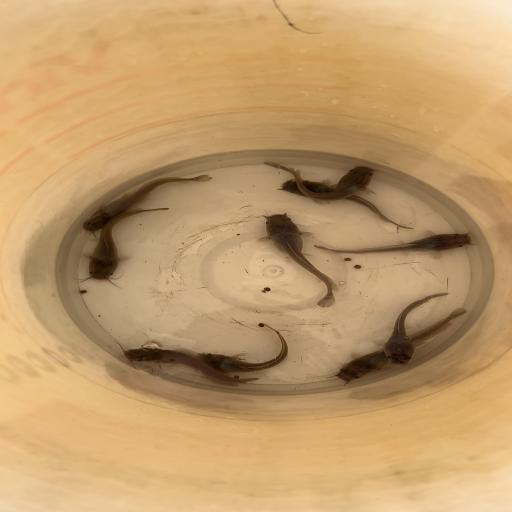lele: (324, 307, 468, 384), (74, 174, 213, 234), (259, 211, 340, 308), (277, 178, 419, 230), (84, 207, 171, 284), (112, 343, 262, 387), (260, 160, 377, 206), (380, 292, 450, 368), (197, 322, 290, 373), (309, 231, 479, 255)
